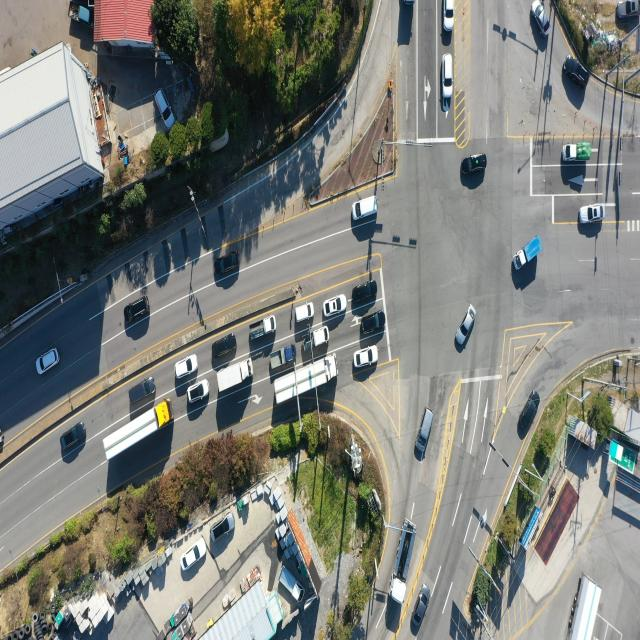car: (181, 537, 207, 572), (416, 408, 435, 455), (124, 293, 150, 326), (456, 306, 476, 348), (128, 377, 156, 407), (564, 56, 589, 87), (156, 88, 175, 128), (352, 196, 378, 223), (412, 586, 430, 624), (531, 2, 550, 38), (62, 422, 86, 450), (520, 393, 540, 426), (38, 348, 61, 376), (211, 517, 234, 545), (214, 254, 240, 277), (352, 280, 378, 303), (353, 346, 378, 369), (175, 353, 198, 378), (186, 380, 209, 404), (212, 336, 236, 359), (464, 152, 489, 174), (444, 54, 455, 103), (360, 312, 384, 334), (322, 296, 345, 318), (581, 204, 605, 224), (617, 0, 640, 19), (293, 304, 313, 324), (445, 0, 455, 31)
medium_truck: (103, 398, 172, 463), (272, 353, 338, 406), (566, 577, 601, 640), (394, 523, 418, 609), (216, 358, 254, 393)
small_truck: (276, 566, 307, 607), (513, 235, 541, 273), (251, 317, 278, 343), (304, 327, 330, 352), (70, 3, 93, 30), (274, 345, 297, 369), (563, 143, 590, 163)
